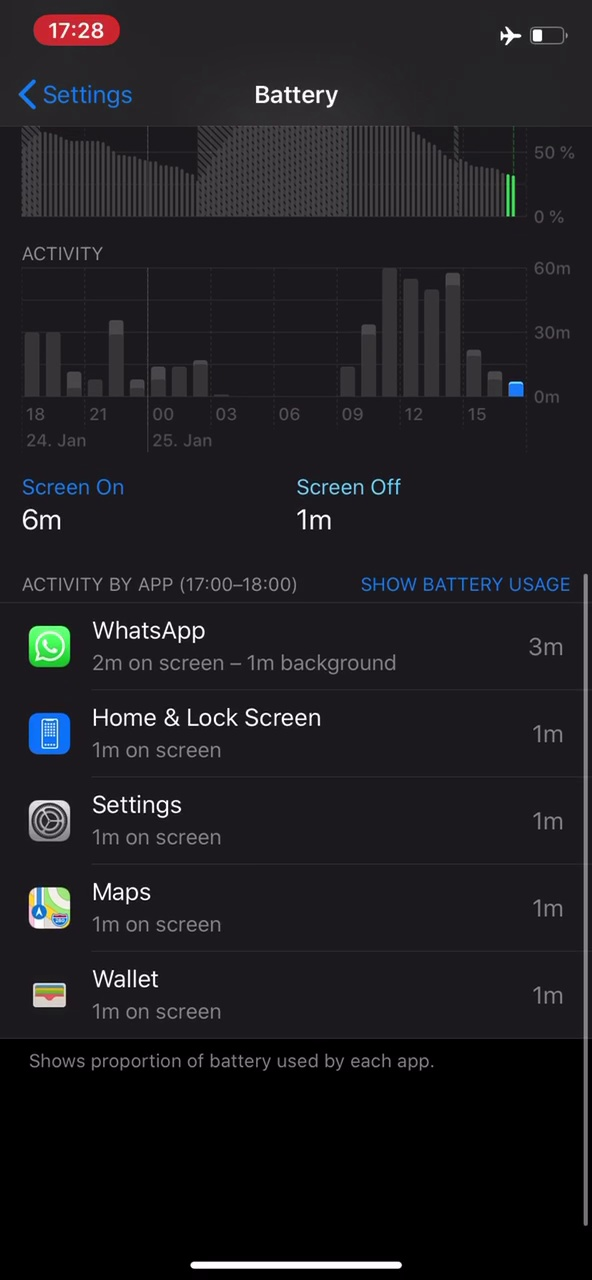activity: (15, 558, 322, 605)
app: (9, 608, 578, 685), (12, 698, 581, 775), (10, 785, 579, 862), (10, 869, 579, 946), (9, 956, 578, 1033)
